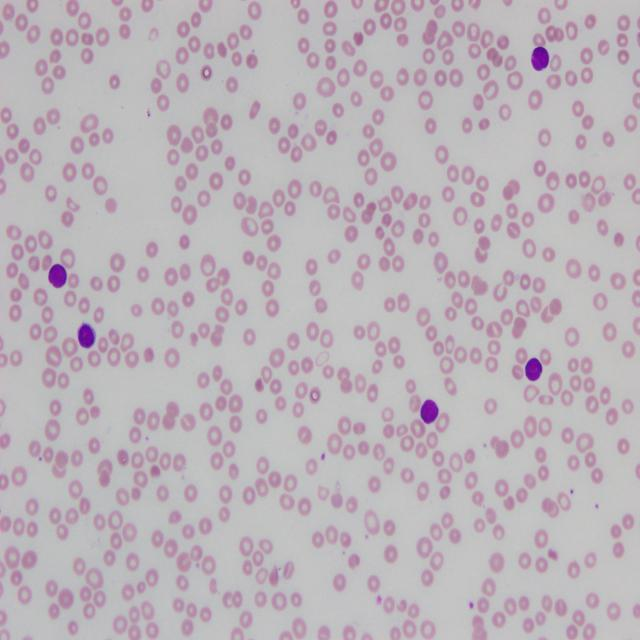cell: (49, 263, 68, 288), (420, 400, 439, 423), (78, 323, 95, 348), (531, 47, 549, 70), (525, 358, 542, 382)
